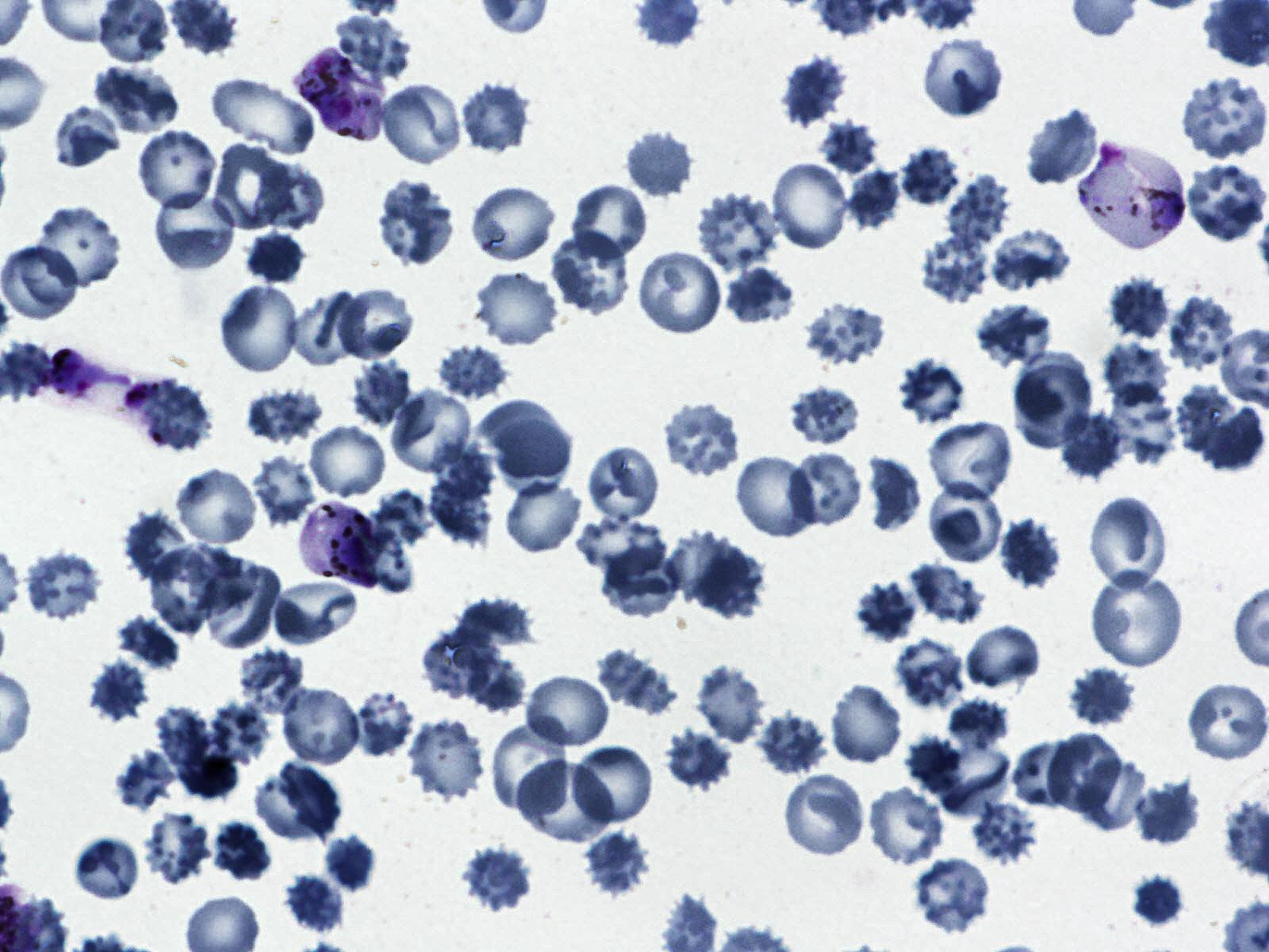Infected: (1083, 145, 1187, 251), (297, 45, 389, 142), (301, 501, 388, 586), (48, 347, 155, 409)
Uninfected: (1090, 571, 1182, 670), (513, 761, 617, 845), (665, 529, 764, 616), (491, 716, 573, 816), (393, 386, 481, 479), (1088, 493, 1171, 591), (634, 248, 725, 337), (210, 79, 314, 155), (153, 184, 240, 273), (1011, 355, 1095, 447), (378, 81, 466, 167), (733, 454, 822, 539), (468, 182, 559, 265), (474, 399, 572, 476), (1176, 77, 1268, 158), (920, 33, 1006, 119), (571, 742, 658, 827), (784, 769, 867, 858), (375, 178, 458, 267), (404, 714, 486, 804), (200, 559, 279, 651), (475, 268, 564, 349), (548, 231, 632, 316), (278, 685, 363, 769), (695, 192, 782, 274), (864, 781, 945, 869), (92, 58, 181, 137), (218, 286, 295, 375), (148, 546, 222, 638), (928, 418, 1011, 500), (37, 206, 119, 289), (257, 762, 342, 842), (209, 144, 288, 230), (525, 674, 613, 751), (829, 683, 907, 768), (173, 470, 255, 550), (925, 483, 1004, 566), (784, 448, 867, 527), (693, 662, 770, 747), (271, 571, 360, 644), (136, 129, 213, 213), (600, 539, 678, 621), (21, 547, 104, 624), (1109, 380, 1180, 470), (418, 626, 503, 701), (773, 162, 846, 249), (1189, 682, 1269, 761), (661, 400, 742, 478), (289, 290, 370, 368), (1185, 163, 1267, 240), (306, 422, 385, 500), (913, 854, 992, 931), (1027, 106, 1102, 187), (427, 459, 493, 551), (335, 288, 417, 362), (1049, 734, 1121, 817), (894, 636, 972, 712), (572, 183, 648, 260), (460, 841, 538, 916), (498, 418, 572, 497), (781, 52, 853, 133), (575, 515, 669, 577), (329, 13, 412, 83), (1, 245, 77, 321), (593, 650, 677, 718), (459, 79, 531, 157), (121, 509, 191, 589), (906, 559, 987, 628), (967, 623, 1045, 694), (938, 744, 1013, 817), (973, 304, 1052, 373), (249, 162, 326, 232), (249, 451, 319, 528), (803, 304, 888, 367), (1079, 756, 1149, 832), (509, 479, 578, 554), (1175, 382, 1242, 459), (141, 381, 213, 452), (626, 129, 696, 202), (945, 174, 1014, 248), (968, 799, 1039, 870), (588, 447, 656, 520), (457, 592, 539, 651), (922, 232, 991, 302), (238, 643, 304, 716), (1169, 295, 1233, 370), (1105, 273, 1173, 343), (664, 728, 735, 795), (1060, 409, 1125, 482), (350, 357, 415, 430), (147, 810, 210, 885), (581, 829, 650, 897), (1133, 781, 1204, 847), (754, 712, 829, 774), (1199, 406, 1267, 474), (897, 357, 965, 425), (350, 691, 418, 758), (71, 835, 140, 901), (1100, 341, 1170, 406), (1013, 742, 1078, 812), (113, 744, 176, 816), (153, 701, 213, 776), (993, 521, 1061, 587), (209, 696, 273, 766), (788, 384, 860, 446), (993, 232, 1071, 289), (244, 389, 326, 443), (865, 452, 921, 531), (842, 167, 906, 236), (85, 658, 151, 724), (853, 580, 921, 643), (283, 872, 346, 939), (723, 264, 795, 322), (368, 488, 436, 549), (461, 657, 532, 715), (1069, 666, 1137, 725), (901, 730, 964, 793), (119, 609, 182, 672), (439, 346, 510, 401), (899, 145, 962, 206), (55, 108, 122, 165), (213, 820, 273, 882), (820, 117, 880, 178), (949, 696, 1011, 754), (324, 835, 380, 896), (243, 232, 309, 282), (1129, 872, 1184, 930)
